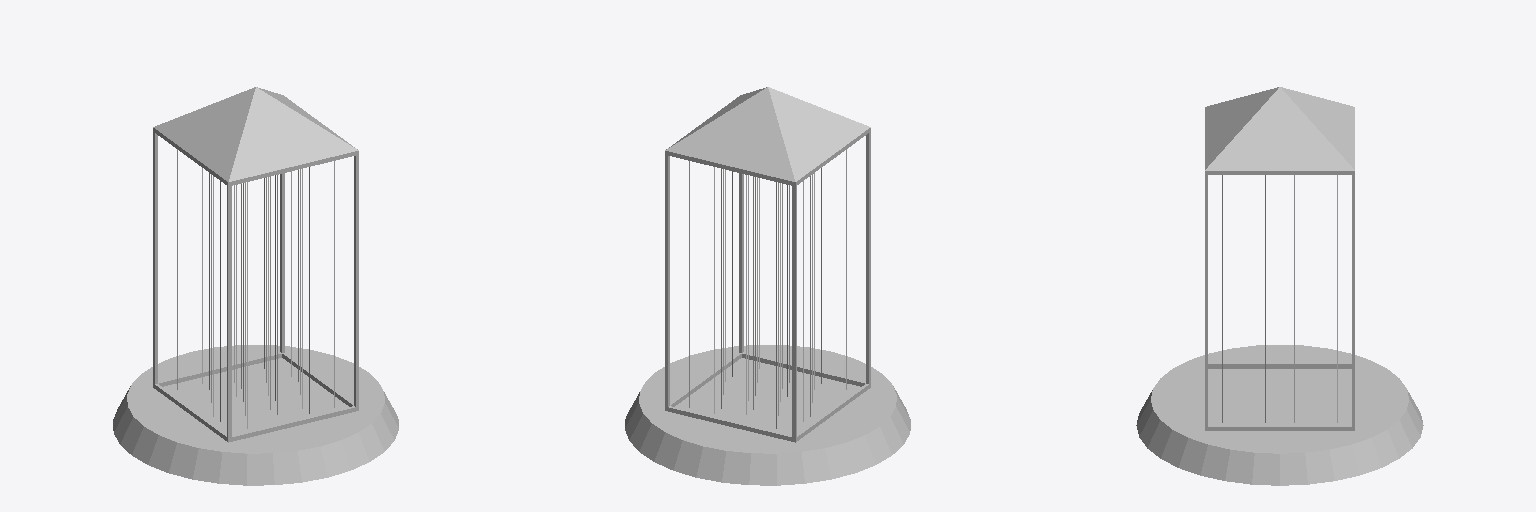
Rendered from cage.obj.
3 views of the same model, side by side, from view 1: azimuth 30°, elevation 25°; view 2: azimuth 150°, elevation 25°; view 3: azimuth 270°, elevation 25° (orthographic).
Visible parts, largest first — view 1: Cylinder.001_Cylinder.018; view 2: Cylinder.001_Cylinder.018; view 3: Cylinder.001_Cylinder.018.
Part boxes in pixels (x1,y1,x2,y2): Cylinder.001_Cylinder.018: (113,87,398,485); Cylinder.001_Cylinder.018: (625,87,910,485); Cylinder.001_Cylinder.018: (1136,87,1423,485).
Size of the model in its own units: 20 by 26 by 20.